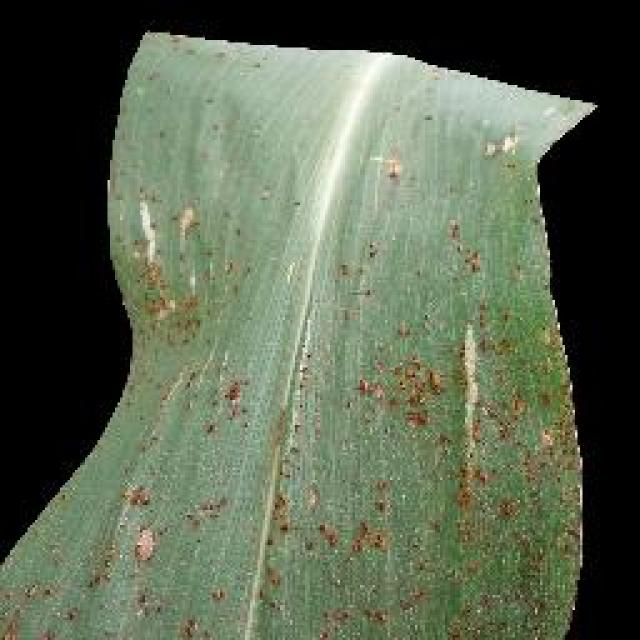Corn___Common_rust: (2, 42, 608, 640)
